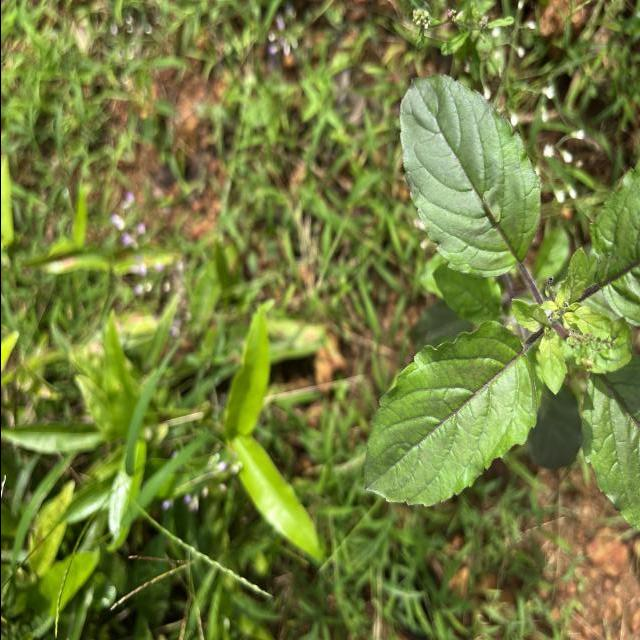Ocimum tenuiflorum: (358, 317, 538, 509), (398, 72, 542, 280)
